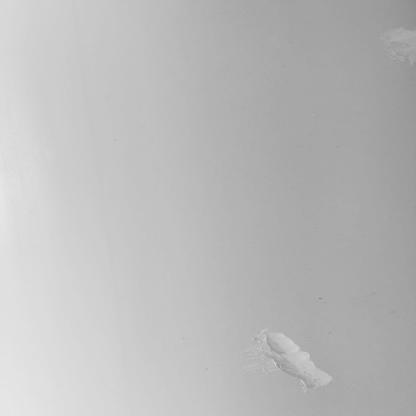sunshang: (250, 318, 334, 393), (371, 20, 416, 73)
